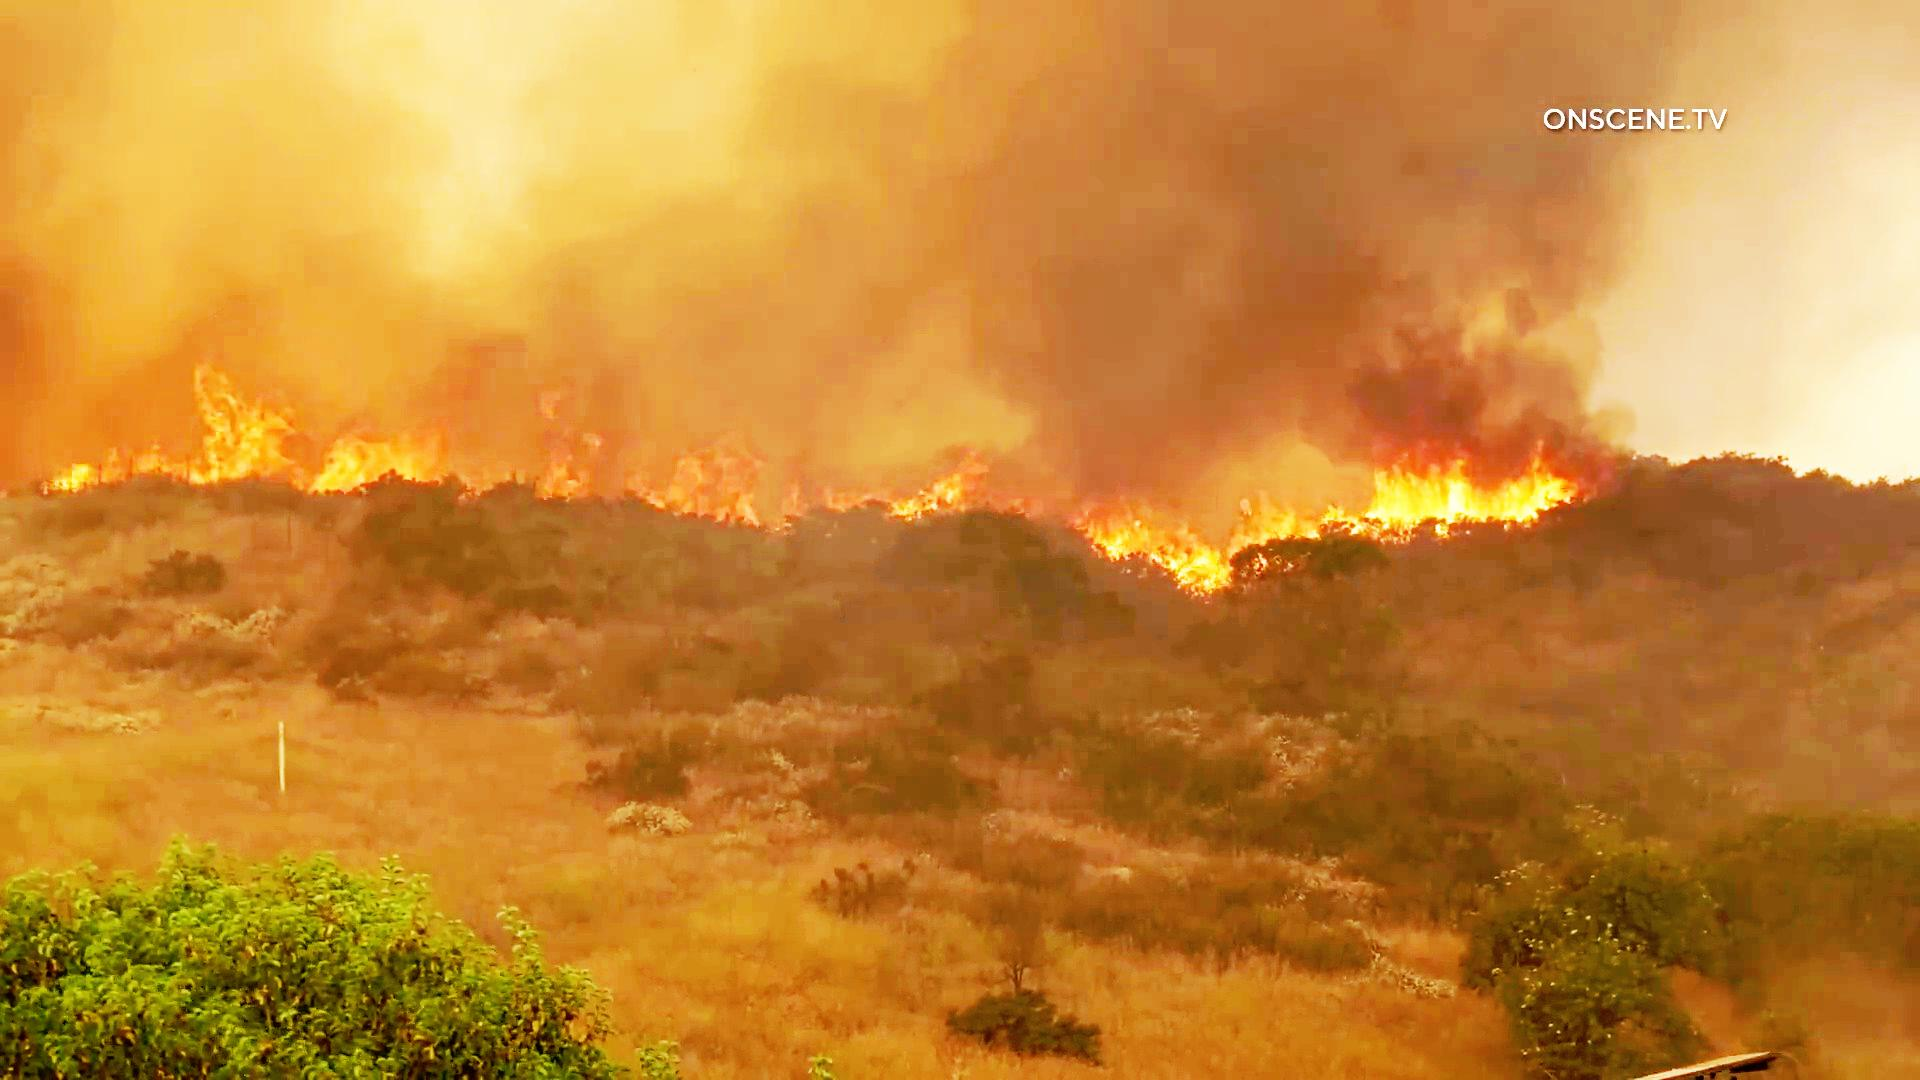fire: (16, 357, 454, 502), (1286, 443, 1577, 550), (1073, 463, 1226, 604), (881, 448, 1004, 529)
smoke: (1080, 33, 1559, 425)
